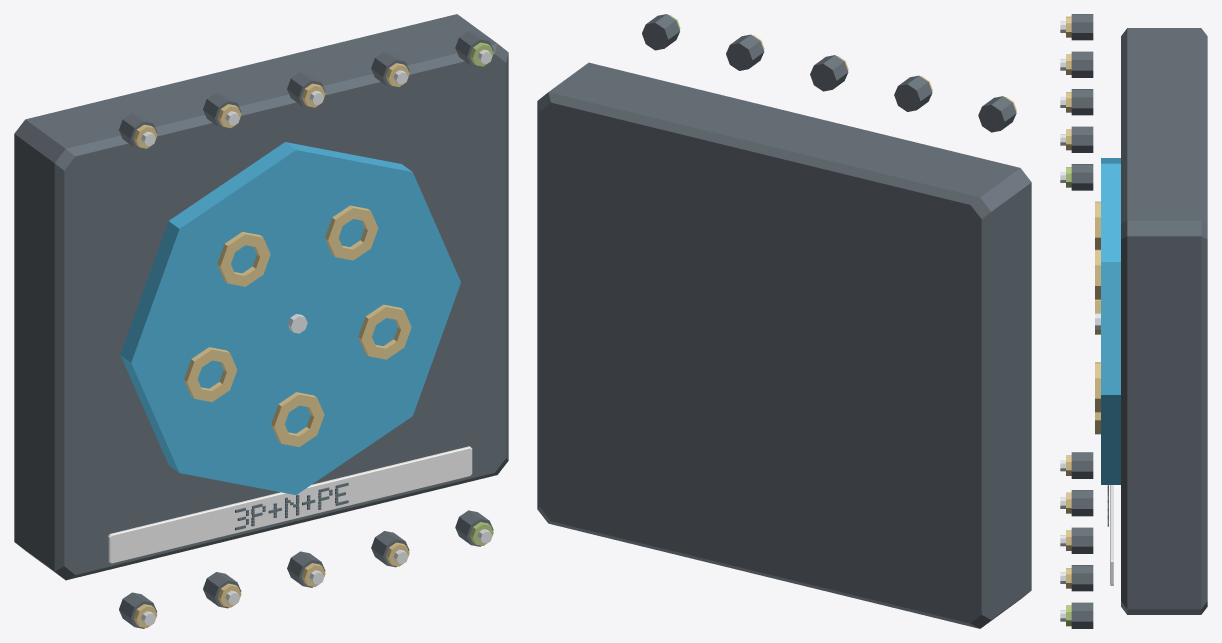
The model's file is industrialSocket.glb.
3 renders of one model, left to right at view 1: azimuth 30°, elevation 25°; view 2: azimuth 150°, elevation 25°; view 3: azimuth 270°, elevation 25°, orthographic. The views are drawn at different scales.
Visible parts, largest first — view 1: industrialSocket-board; view 2: industrialSocket-board; view 3: industrialSocket-board.
Boxes of the visible parts, box(x1,y1,x2,y2) form: industrialSocket-board: box(14, 14, 508, 628); industrialSocket-board: box(537, 14, 1031, 628); industrialSocket-board: box(1060, 14, 1207, 628).
Size of the model in its own units: 3.26 by 3.48 by 1.
